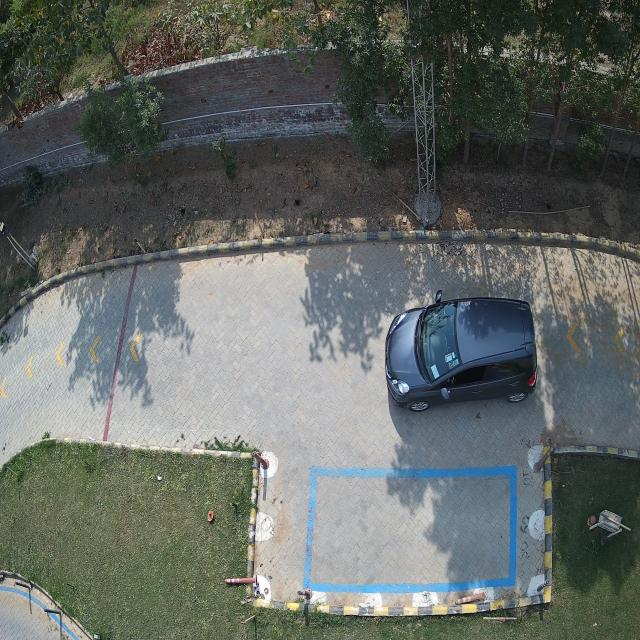car: (385, 295, 538, 412)
